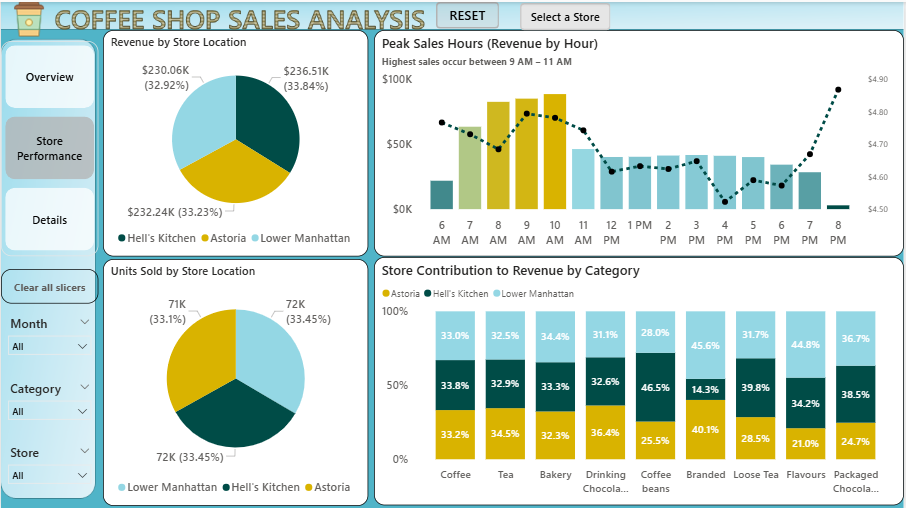

Layout of this report page (visuals, bound fields, positions):
{"tool":"powerbi","page":{"name":"Store Performance","canvas":[1280,720],"ordinal":1},"visuals":[{"type":"pieChart","title":"Revenue by Store Location","fields":{"Y":["DAX Measure.Total Revenue"],"Category":["Store.Store Location"]},"box":[145,39.4,376.5,320.9],"z":0},{"type":"pieChart","title":"Units Sold by Store Location","fields":{"Y":["DAX Measure.Total QTY Sold"],"Category":["Store.Store Location"]},"box":[145,363.9,376.5,349.6],"z":1000},{"type":"lineClusteredColumnComboChart","title":"Peak Sales Hours (Revenue by Hour)","fields":{"Y":["DAX Measure.Total Revenue"],"Y2":["DAX Measure.AVG Order"],"Category":["Sales.Hour Label"]},"box":[528.9,39.4,751.1,320.9],"z":2000},{"type":"slicer","fields":{"Values":["Date.Month Name"]},"box":[0,438.1,138.4,91.3],"z":3000},{"type":"slicer","fields":{"Values":["Product_Details.Product Category"]},"box":[0,529.4,138.4,91.3],"z":4000},{"type":"slicer","fields":{"Values":["Store.Store Location"]},"box":[0,620.7,138.4,91.3],"z":5000},{"type":"actionButton","box":[0,379,138,49],"z":6000},{"type":"hundredPercentStackedColumnChart","title":"Store Contribution to Revenue by Category","fields":{"Category":["Product_Details.Product Category"],"Y":["DAX Measure.Total Revenue"],"Series":["Store.Store Location"]},"box":[528.9,362,751.1,352],"z":7000},{"type":"pageNavigator","box":[0,55.6,138,304.8],"z":8000},{"type":"actionButton","box":[734.9,1.4,128.4,38.5],"z":9000},{"type":"actionButton","box":[616.8,0,89.4,37.5],"z":10000}]}

Visuals, with their boxes in screenshot pixels (x1, y1, x2, y2), scaled from the page's 1280x720 canvas onto the 906x508 screenshot:
"Revenue by Store Location" pieChart: {"x1": 103, "y1": 28, "x2": 369, "y2": 254}
"Units Sold by Store Location" pieChart: {"x1": 103, "y1": 257, "x2": 369, "y2": 503}
"Peak Sales Hours (Revenue by Hour)" lineClusteredColumnComboChart: {"x1": 374, "y1": 28, "x2": 905, "y2": 254}
slicer - Date.Month Name: {"x1": 0, "y1": 309, "x2": 98, "y2": 374}
slicer - Product_Details.Product Category: {"x1": 0, "y1": 374, "x2": 98, "y2": 438}
slicer - Store.Store Location: {"x1": 0, "y1": 438, "x2": 98, "y2": 502}
actionButton: {"x1": 0, "y1": 267, "x2": 98, "y2": 302}
"Store Contribution to Revenue by Category" hundredPercentStackedColumnChart: {"x1": 374, "y1": 255, "x2": 905, "y2": 504}
pageNavigator: {"x1": 0, "y1": 39, "x2": 98, "y2": 254}
actionButton: {"x1": 520, "y1": 1, "x2": 611, "y2": 28}
actionButton: {"x1": 437, "y1": 0, "x2": 500, "y2": 26}
